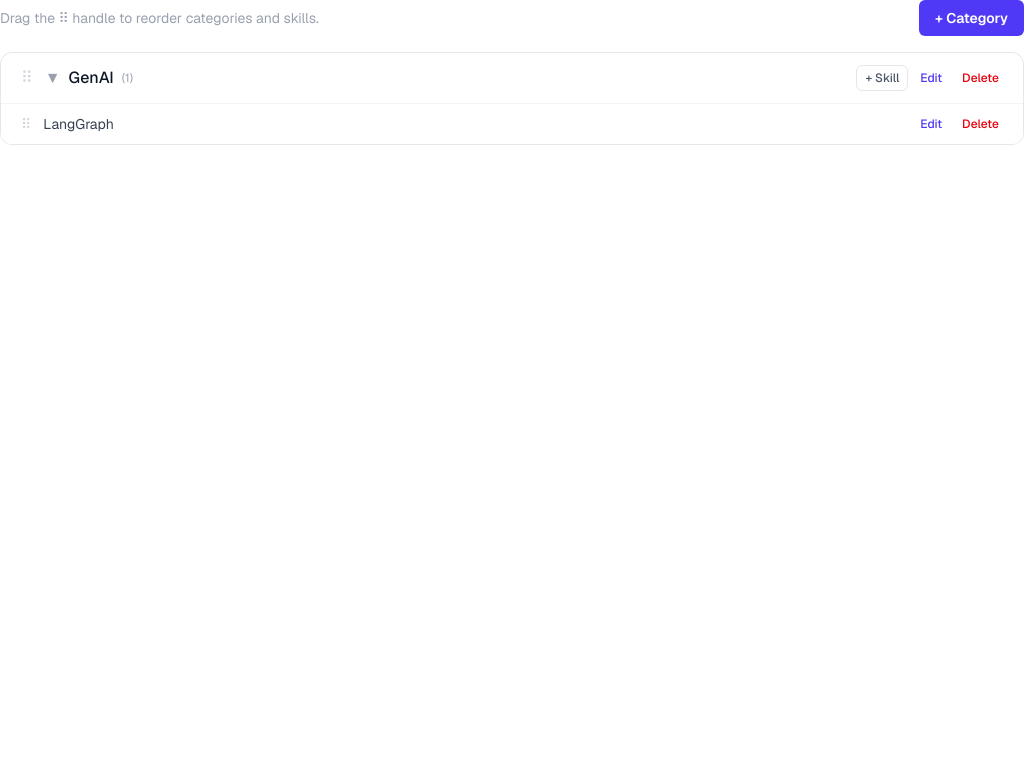
it: SkillsManager › shows the usage indicator when editing a skill
The image size is (1024, 768).
Expected: the text "LangGraph" is shown, [43,115,114,133]
# Edit buttons: [0] is the category's, [1] is the skill's.
Click the button "Edit" in the row of "LangGraph".
click(931, 124)  # box [912,112,950,136]
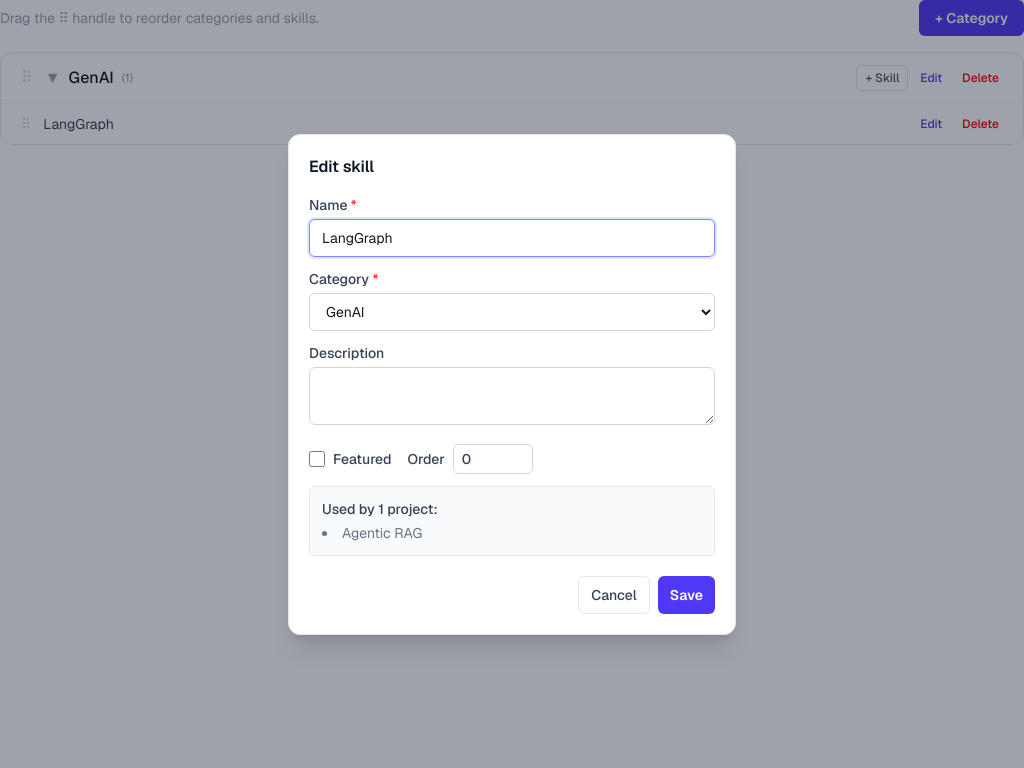
Expected: the text "Used by 1 project:" is shown, [322,500,438,518]
Expected: the list item "Agentic RAG" is shown, [342,524,422,542]
